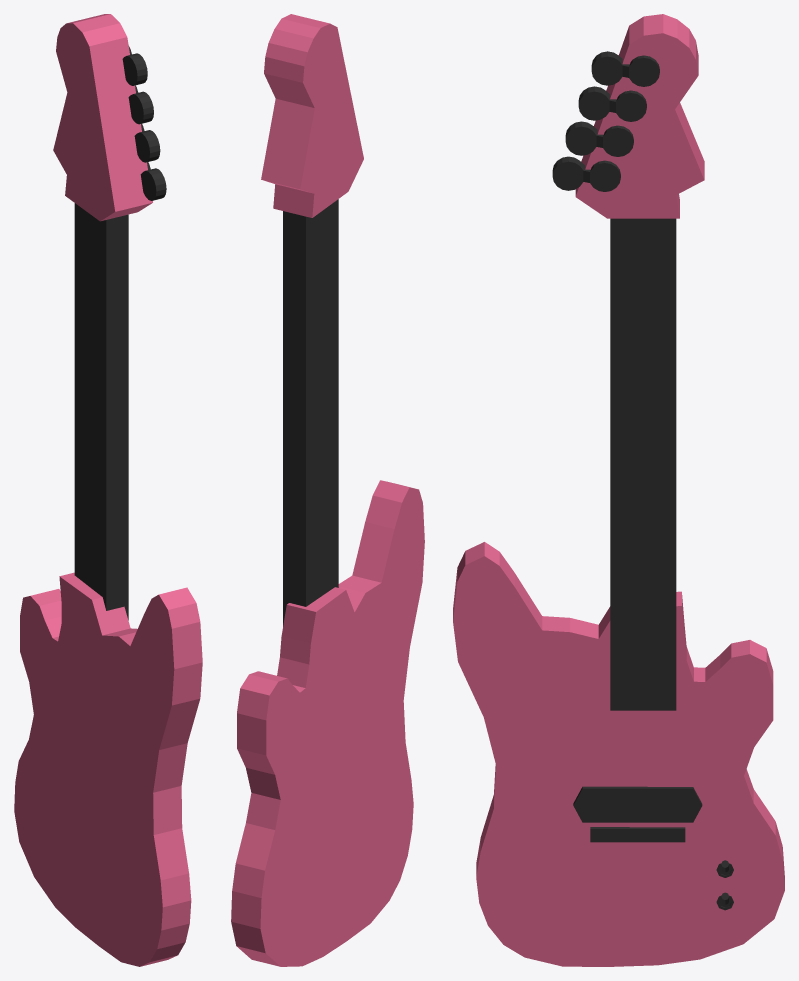
File: guitar.glb
The picture shows the model from 3 angles, left to right: view 1: azimuth 30°, elevation 25°; view 2: azimuth 150°, elevation 25°; view 3: azimuth 270°, elevation 25°; orthographic projection. The views are drawn at different scales.
Parts seen in each view (by area): view 1: Cube, Cube.001, Cube.002, Cube.003; view 2: Cube, Cube.001, Cube.002; view 3: Cube, Cube.001, Cube.002, Cube.003, Cube.004, Cube.005.
Boxes of the visible parts, left/top/right/bottom form: Cube: left=14, top=572, right=202, bottom=966; Cube.001: left=74, top=203, right=128, bottom=620; Cube.002: left=53, top=14, right=152, bottom=221; Cube.003: left=122, top=46, right=166, bottom=200; Cube: left=231, top=480, right=424, bottom=966; Cube.001: left=283, top=199, right=338, bottom=626; Cube.002: left=261, top=14, right=363, bottom=217; Cube: left=453, top=542, right=784, bottom=966; Cube.001: left=610, top=218, right=676, bottom=710; Cube.002: left=575, top=14, right=704, bottom=218; Cube.003: left=552, top=51, right=659, bottom=191; Cube.004: left=573, top=786, right=702, bottom=822; Cube.005: left=590, top=827, right=685, bottom=842.
Size of the model in its own units: 0.4292 by 7.58 by 2.43.
